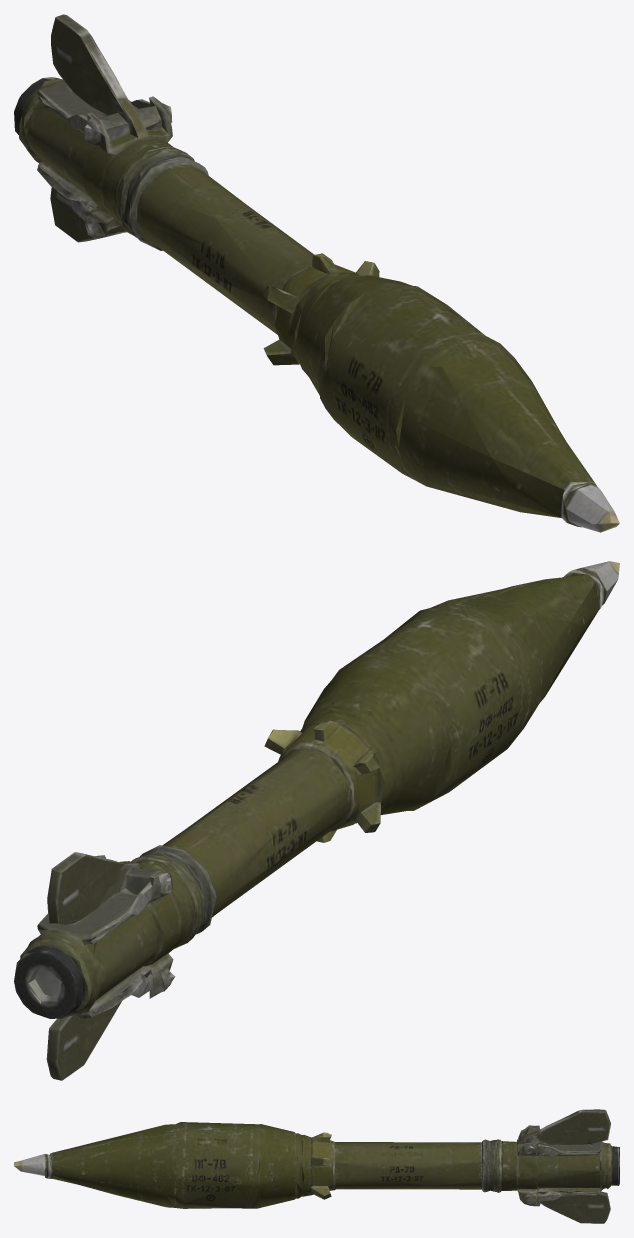
Rendered from pg7_rocket.glb.
3 views of the same model, one above another, from view 1: azimuth 30°, elevation 25°; view 2: azimuth 150°, elevation 25°; view 3: azimuth 270°, elevation 25° (orthographic). The views are drawn at different scales.
Visible parts, largest first — view 1: model; view 2: model; view 3: model.
Part boxes in pixels (x1,y1,x2,y2): model: [14, 14, 619, 532]; model: [14, 561, 619, 1080]; model: [14, 1109, 619, 1223].
Size of the model in its own units: 0.0981 by 0.1427 by 0.7.
Materials: 1 (1 with a texture image).
